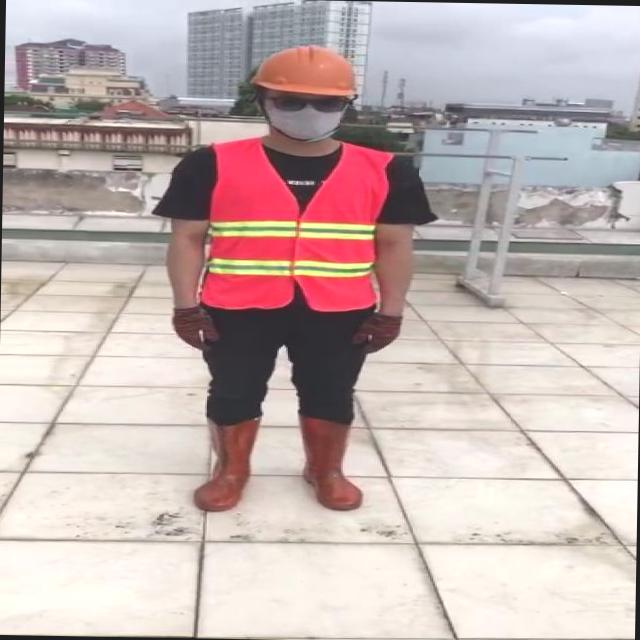boots: (192, 414, 264, 511), (295, 418, 367, 510)
helmet: (251, 41, 364, 97)
vest: (199, 138, 387, 311)
